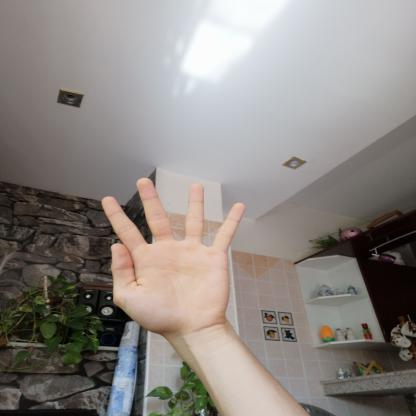SHEEN: (88, 169, 259, 342)
